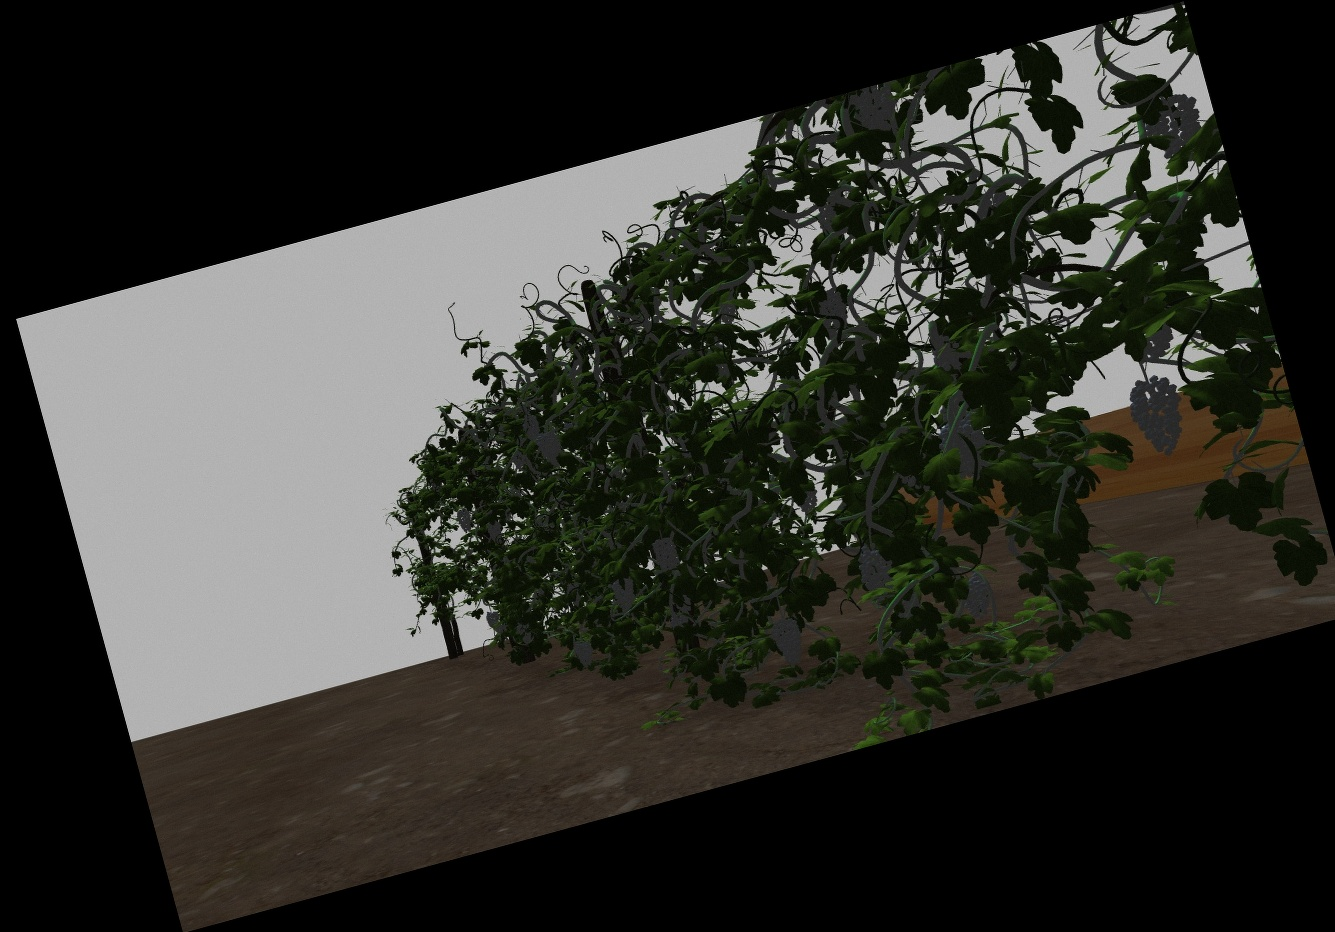grape: (1133, 375, 1186, 453), (1153, 95, 1203, 149), (942, 419, 987, 477), (857, 89, 903, 132), (857, 542, 892, 592), (961, 572, 994, 623), (771, 617, 804, 665), (930, 318, 960, 371), (818, 287, 848, 333), (613, 575, 638, 614), (653, 537, 678, 572), (572, 633, 595, 667), (540, 430, 563, 464), (817, 203, 837, 230), (523, 413, 540, 443), (487, 519, 504, 545), (567, 580, 582, 607), (456, 507, 472, 532), (676, 593, 692, 614), (486, 610, 501, 630), (669, 611, 689, 626), (519, 622, 532, 644), (512, 449, 526, 468)
